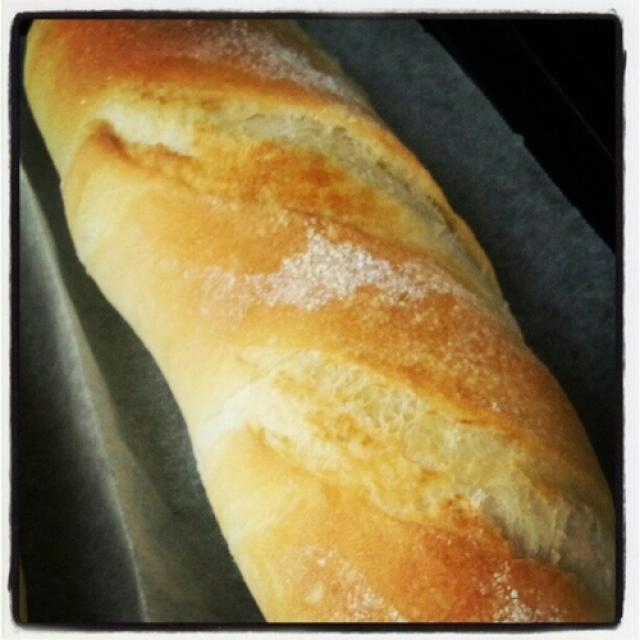Bread: (28, 12, 620, 620)
